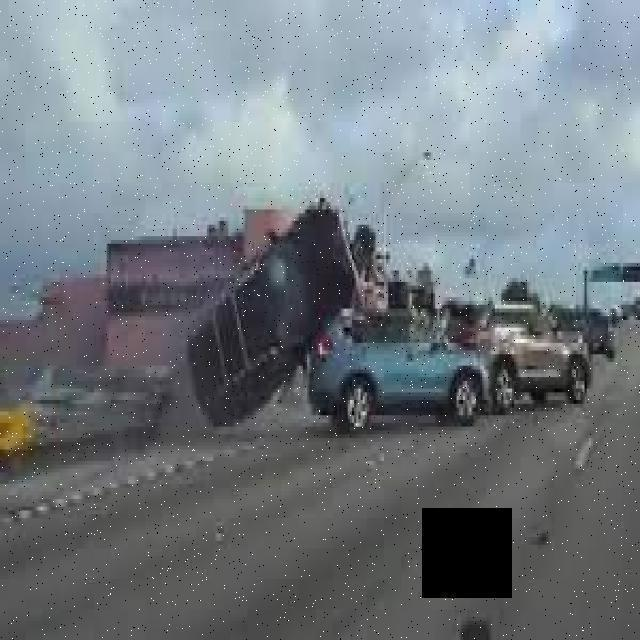accident: (177, 177, 361, 436)
